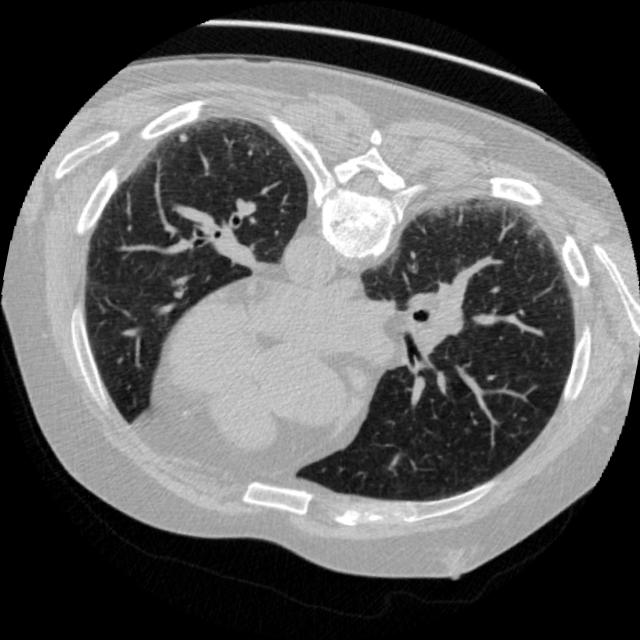nodule: (170, 125, 196, 151)
